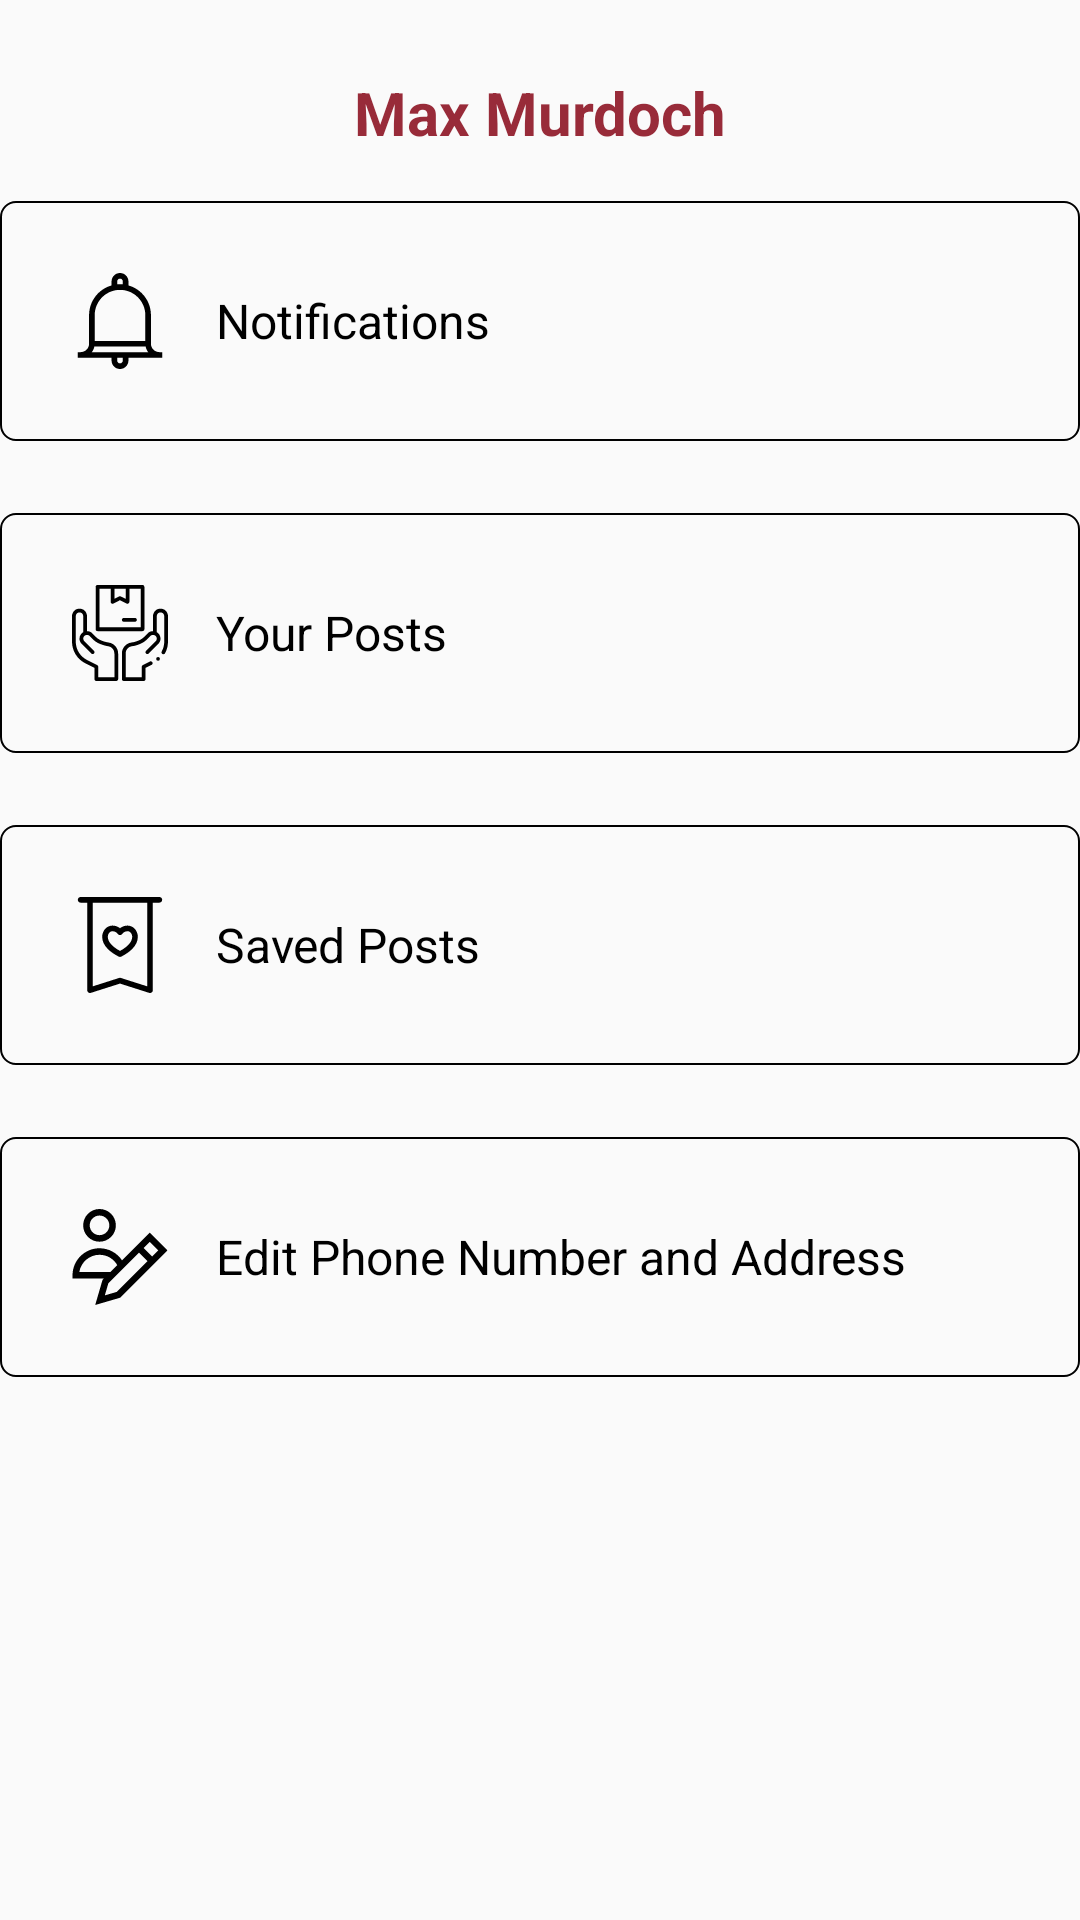

Icons on this 1080 x 1920 Android screen, each with the point to tap as (x,y):
bookmark: (120,945)
product: (120,633)
